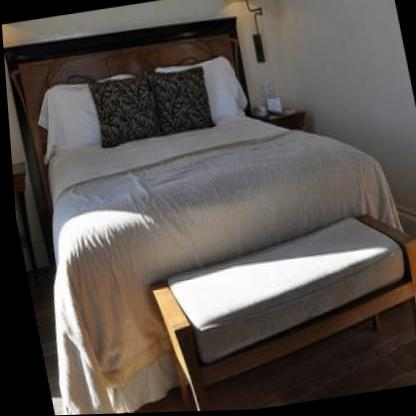Bed: (13, 20, 396, 302)
Table: (137, 209, 416, 413)
